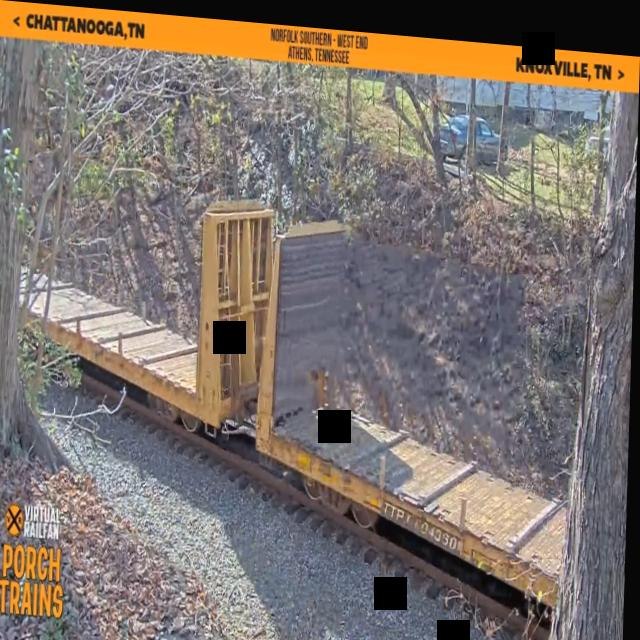flatcar_bulkhead: (251, 196, 572, 598), (23, 159, 283, 450)
